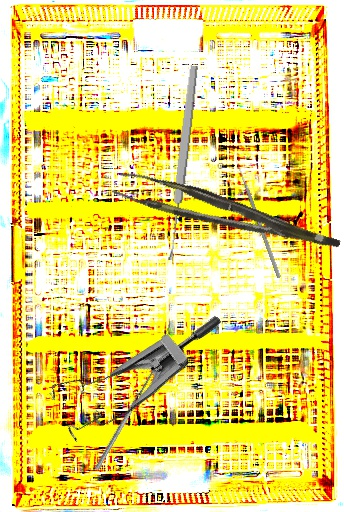Pusher: (233, 157, 282, 279)
Spatula Surgical: (90, 361, 159, 471)
Speculum: (34, 264, 224, 465)
Surgical Spoon: (164, 64, 200, 262)
Tissue Forceps: (110, 157, 341, 276)
